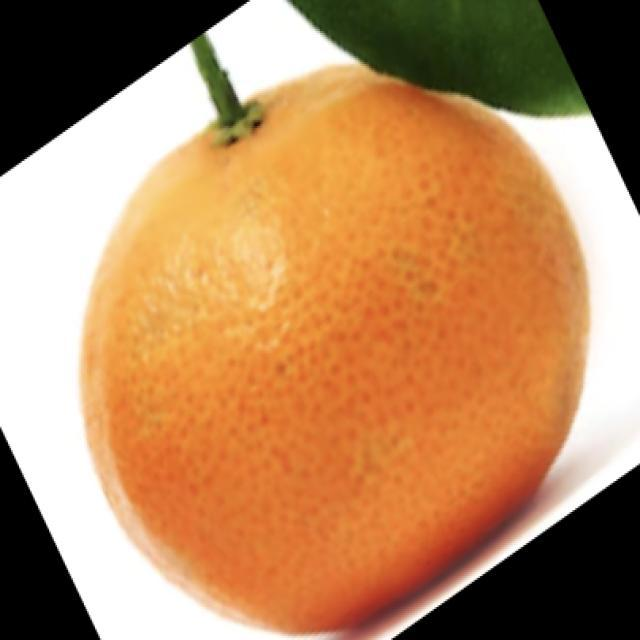Orange: (77, 61, 591, 636)
